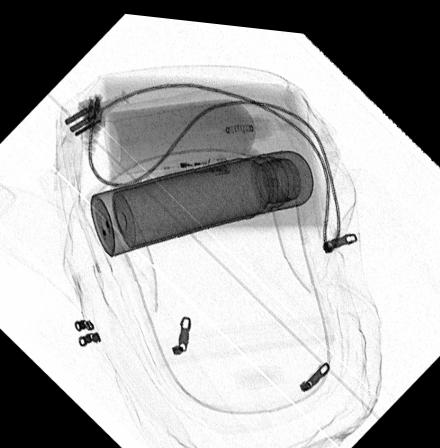Lighter: (162, 148, 231, 179)
